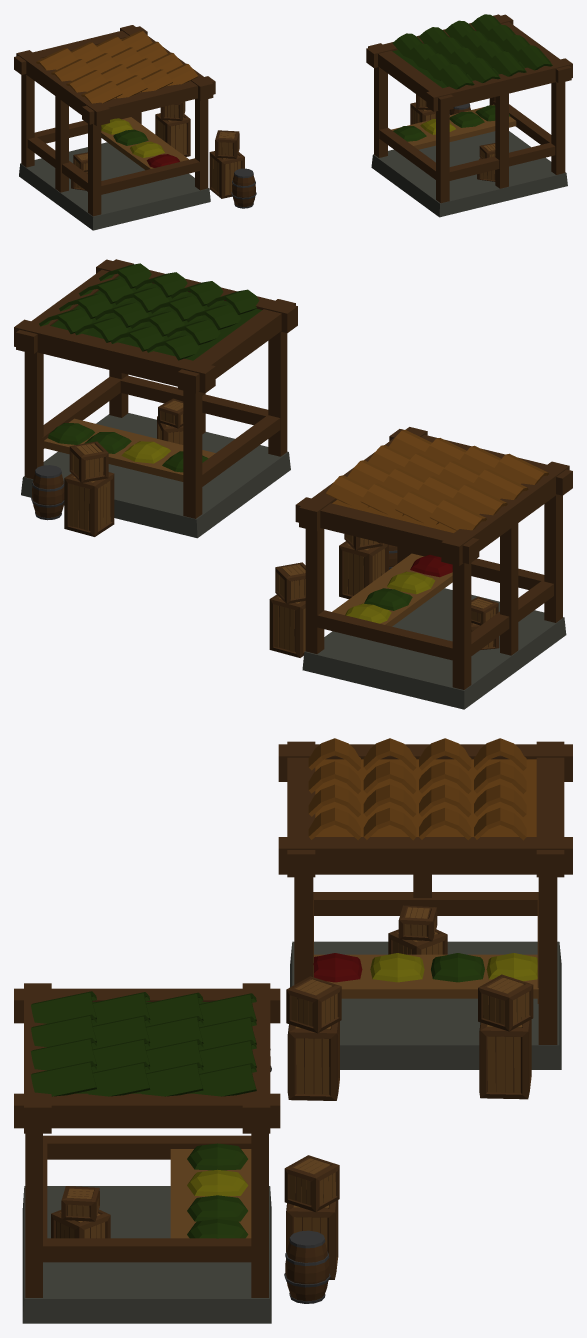
Rendered from Market_SecondAge_Level1.obj.
3 views of the same model, one above another, from view 1: azimuth 30°, elevation 25°; view 2: azimuth 150°, elevation 25°; view 3: azimuth 270°, elevation 25° (orthographic). The views are drawn at different scales.
Visible parts, largest first — view 1: Market_SecondAge_Level1_Cube.012; view 2: Market_SecondAge_Level1_Cube.012; view 3: Market_SecondAge_Level1_Cube.012.
Boxes of the visible parts, x1,y1,x2,y2 form: Market_SecondAge_Level1_Cube.012: (14,14,572,230); Market_SecondAge_Level1_Cube.012: (14,259,572,709); Market_SecondAge_Level1_Cube.012: (14,738,572,1323).
Bounding box in the file's own units: 1.92 × 0.5921 × 1.23.
